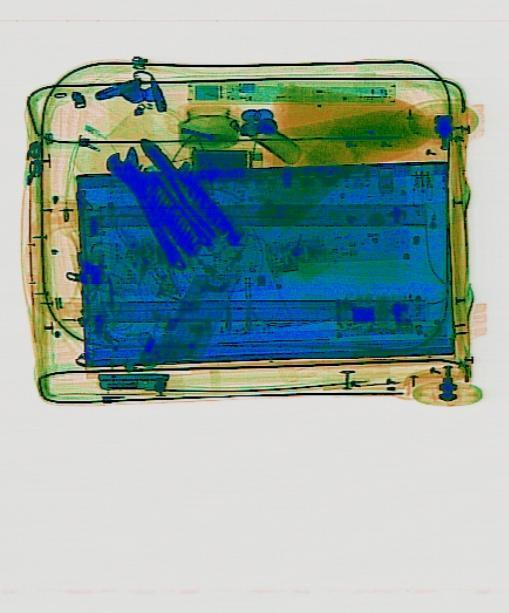Pliers: (130, 127, 230, 247)
Wrench: (100, 138, 199, 277)
